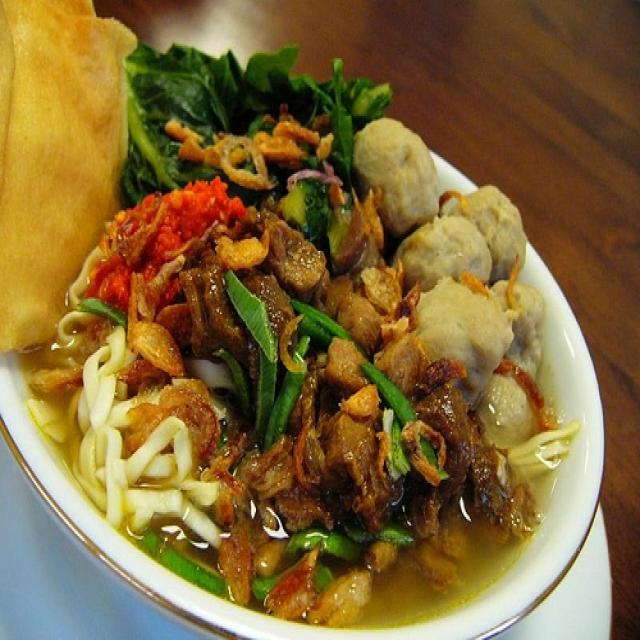面条主食: (29, 72, 592, 602)
